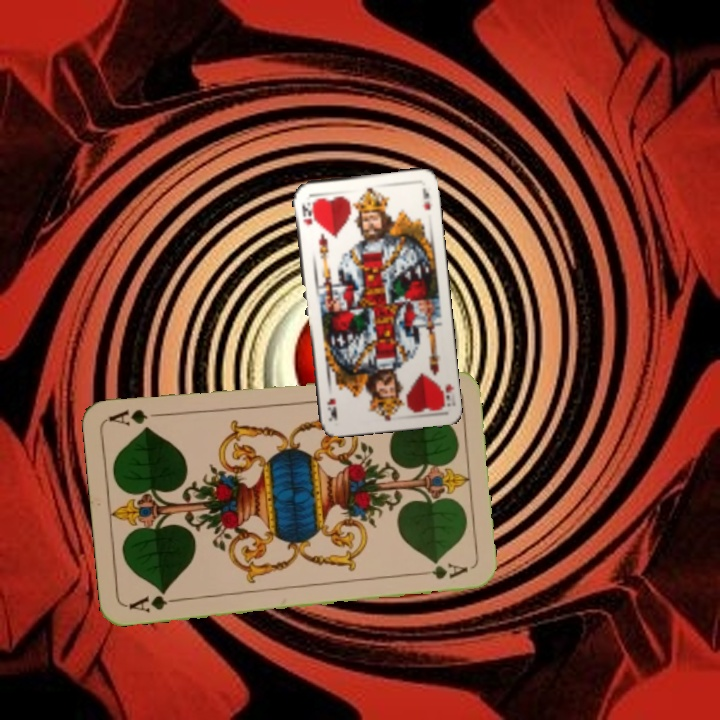GA: (125, 587, 183, 616)
HK: (298, 198, 317, 227), (441, 380, 455, 409)
